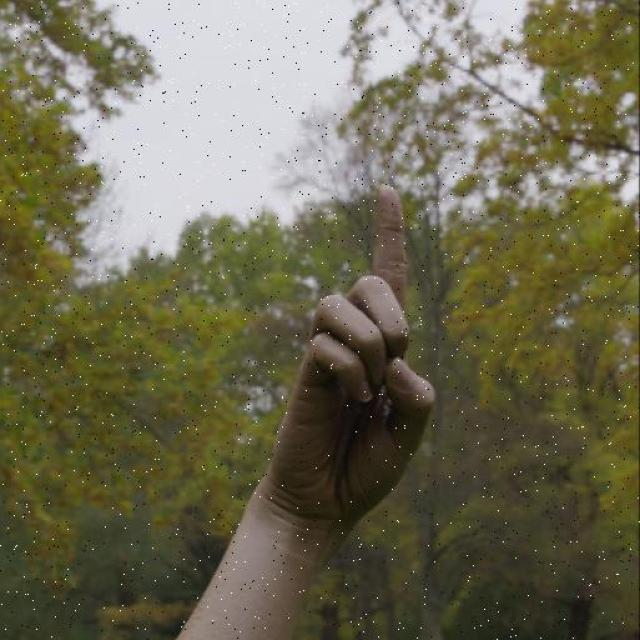D: (250, 180, 444, 560)
